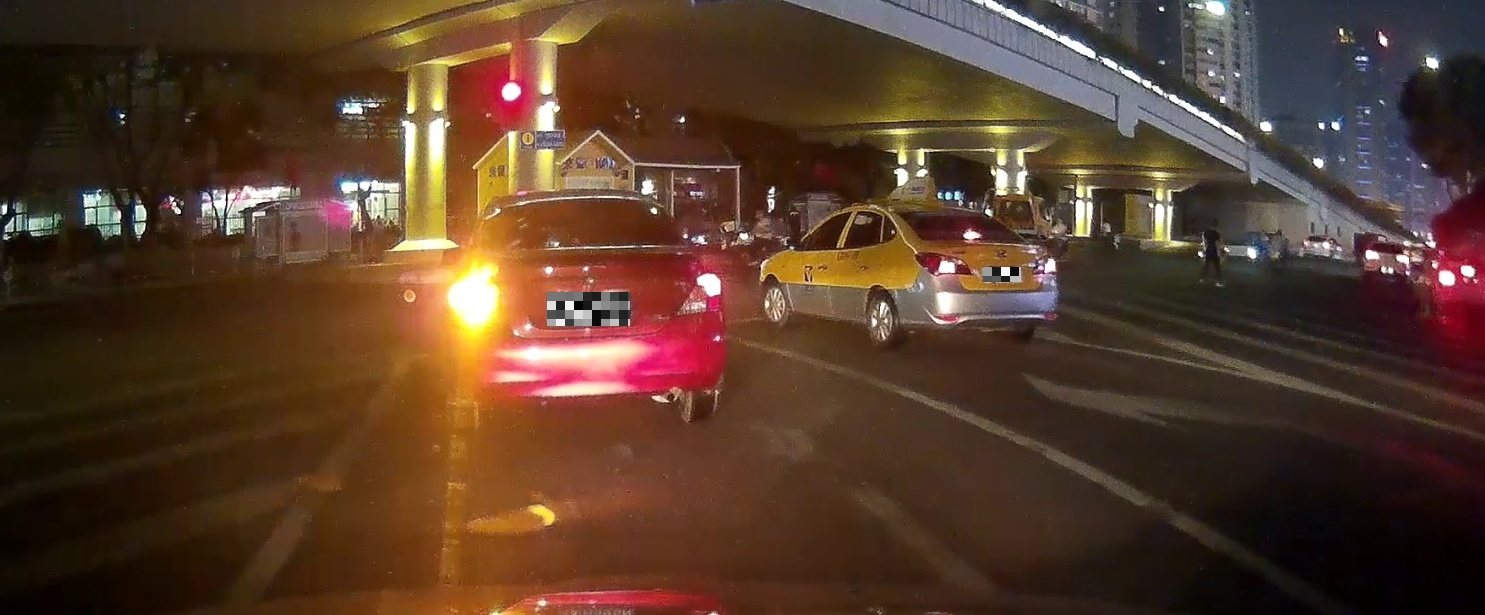L_light: (455, 280, 498, 325), (914, 251, 973, 275)
R_light: (675, 273, 721, 313), (1032, 254, 1057, 274)
T_light: (561, 197, 594, 207), (963, 231, 981, 239)
night-brake: (892, 202, 1058, 349)
night-left: (447, 189, 727, 422)
plate_1: (547, 292, 630, 326)
plate_2: (983, 267, 1021, 282)
